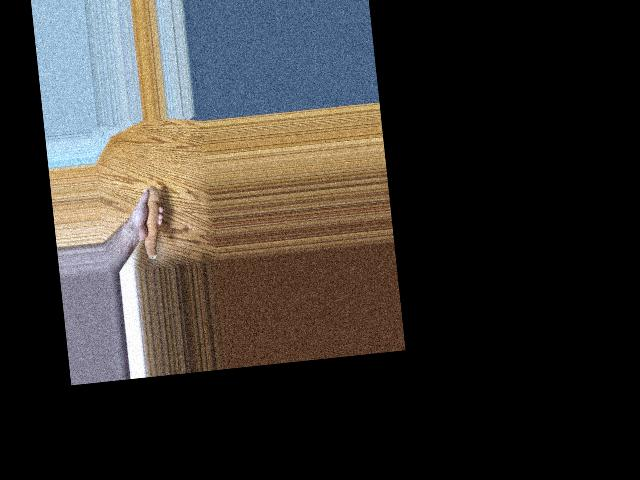sweet_potato: (137, 186, 168, 259)
